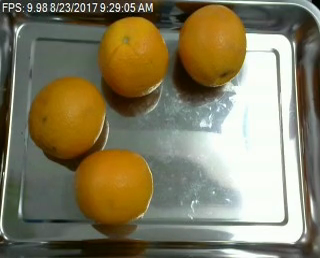Orange: (27, 76, 107, 158), (73, 149, 152, 226), (176, 5, 245, 87), (98, 15, 167, 96)
